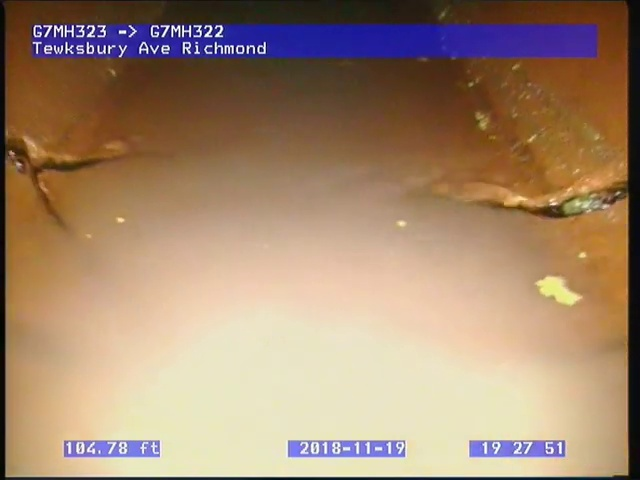crack: (4, 132, 136, 233), (425, 166, 628, 223)
